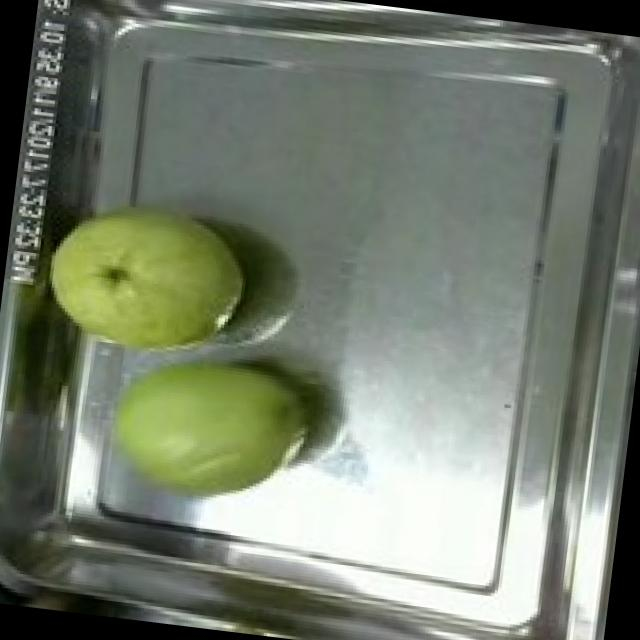Fruit: (25, 180, 264, 382), (88, 323, 326, 524)
